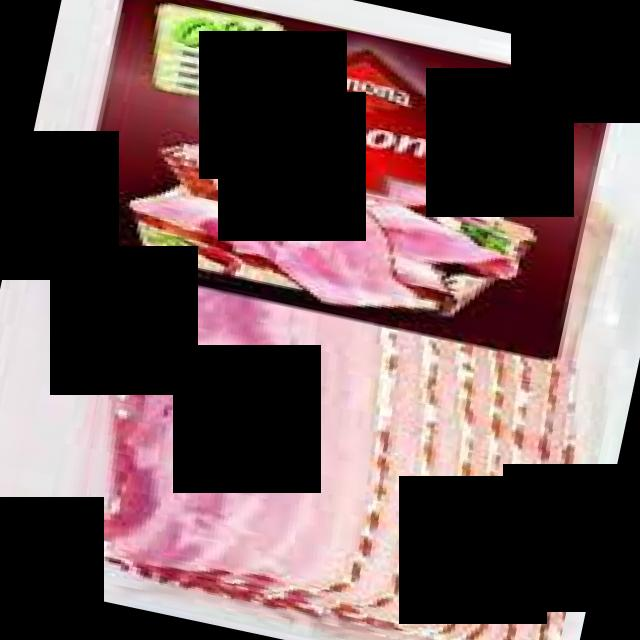bacon: (49, 270, 616, 640)
